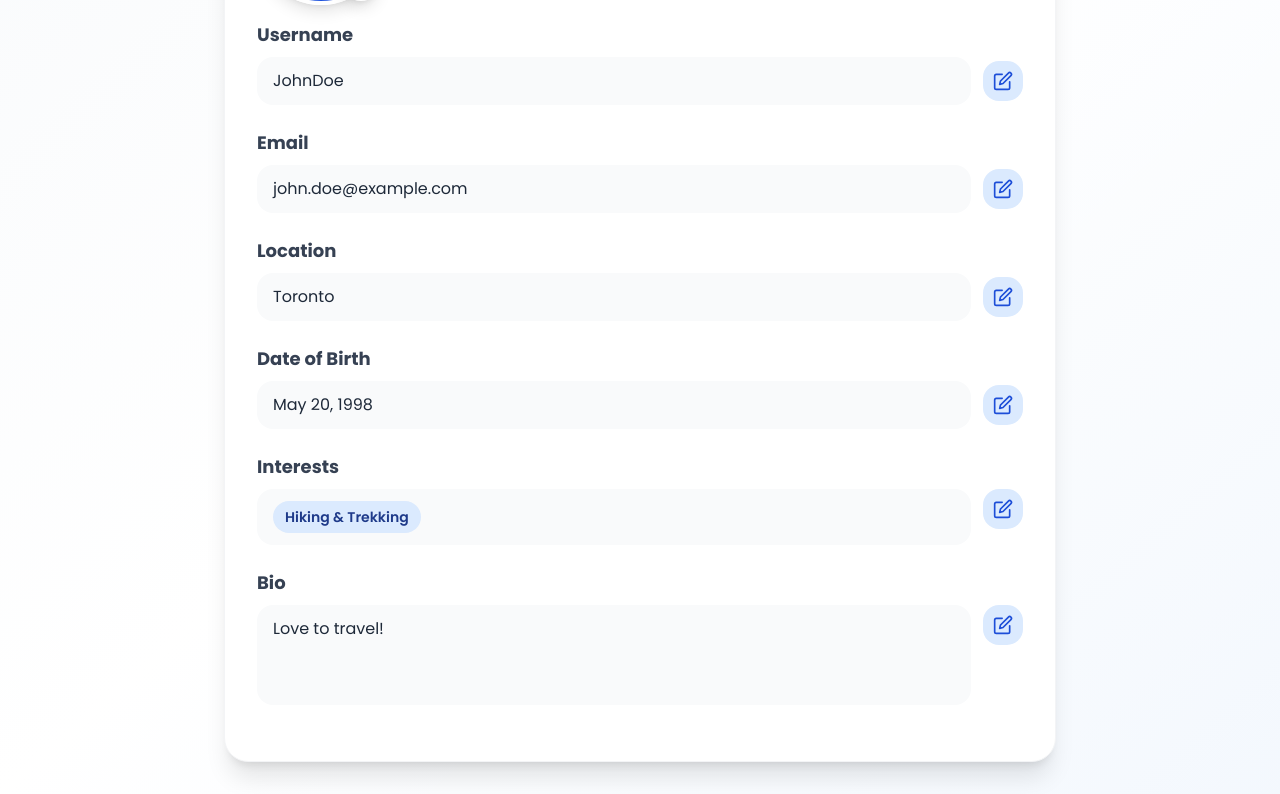
Test: Profile › cancels bio editing
The width and height of the screenshot is (1280, 794).
(page scrolled)
Click the button named "Edit bio" at (1003, 625), box [983,605,1023,645]
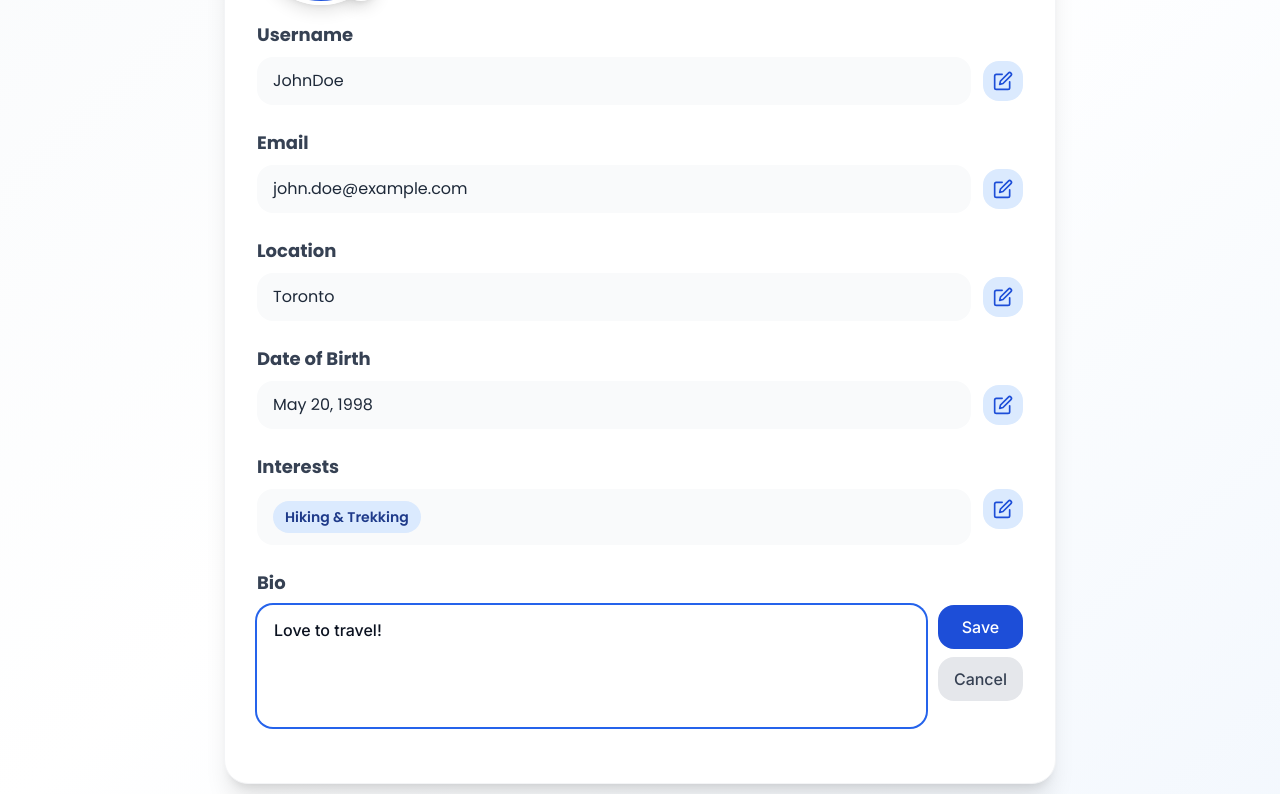
expect the text box with placeholder "Tell us about yourself..." is shown: met, box [257,605,926,727]
Click the button "Cancel" at (980, 679), box [938,657,1023,701]
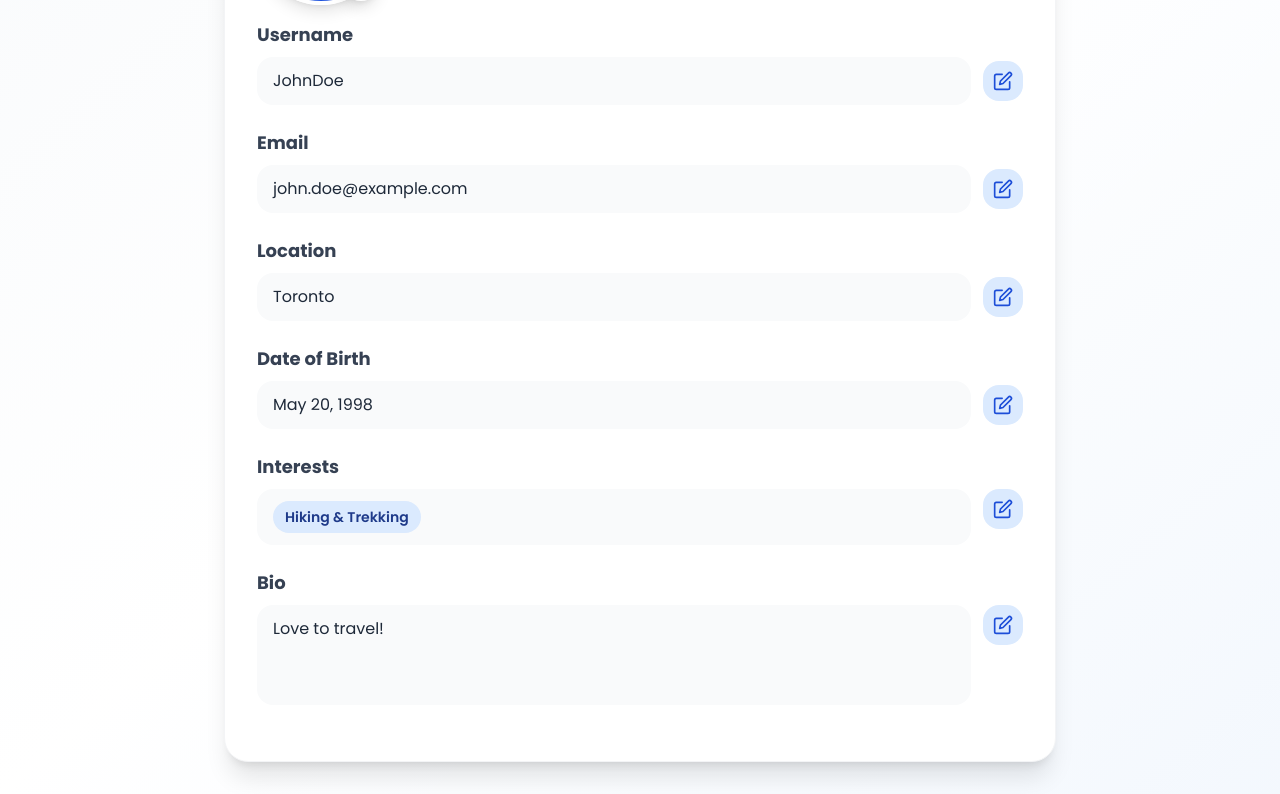
expect the text "Love to travel!" is shown: met, box [257,605,971,705]
